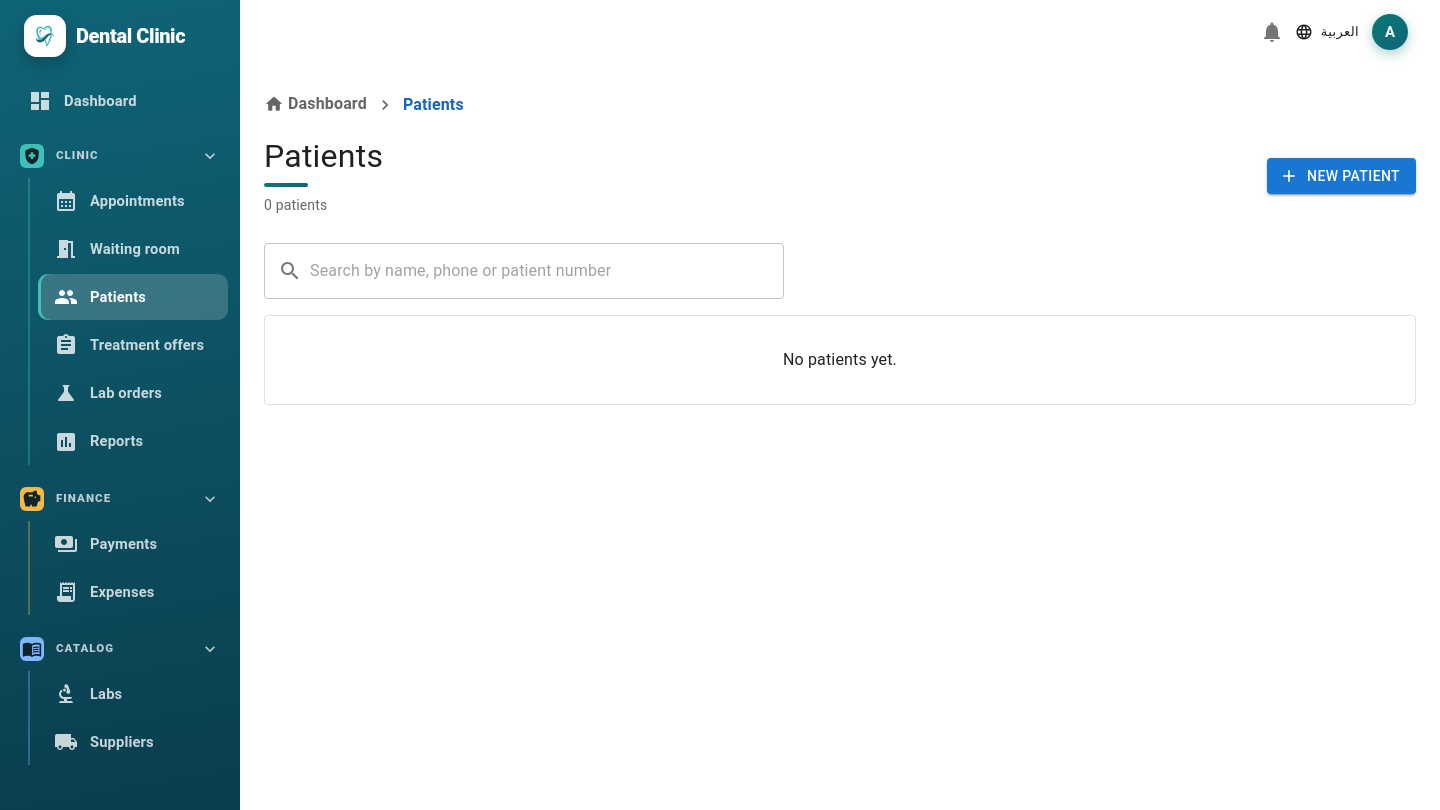
Test case: patients list › searches after a short pause, sending the text to the server
Type "hicham" into the field named "Search patients".
click(547, 270); type("hicham")  # box [310,242,784,298]
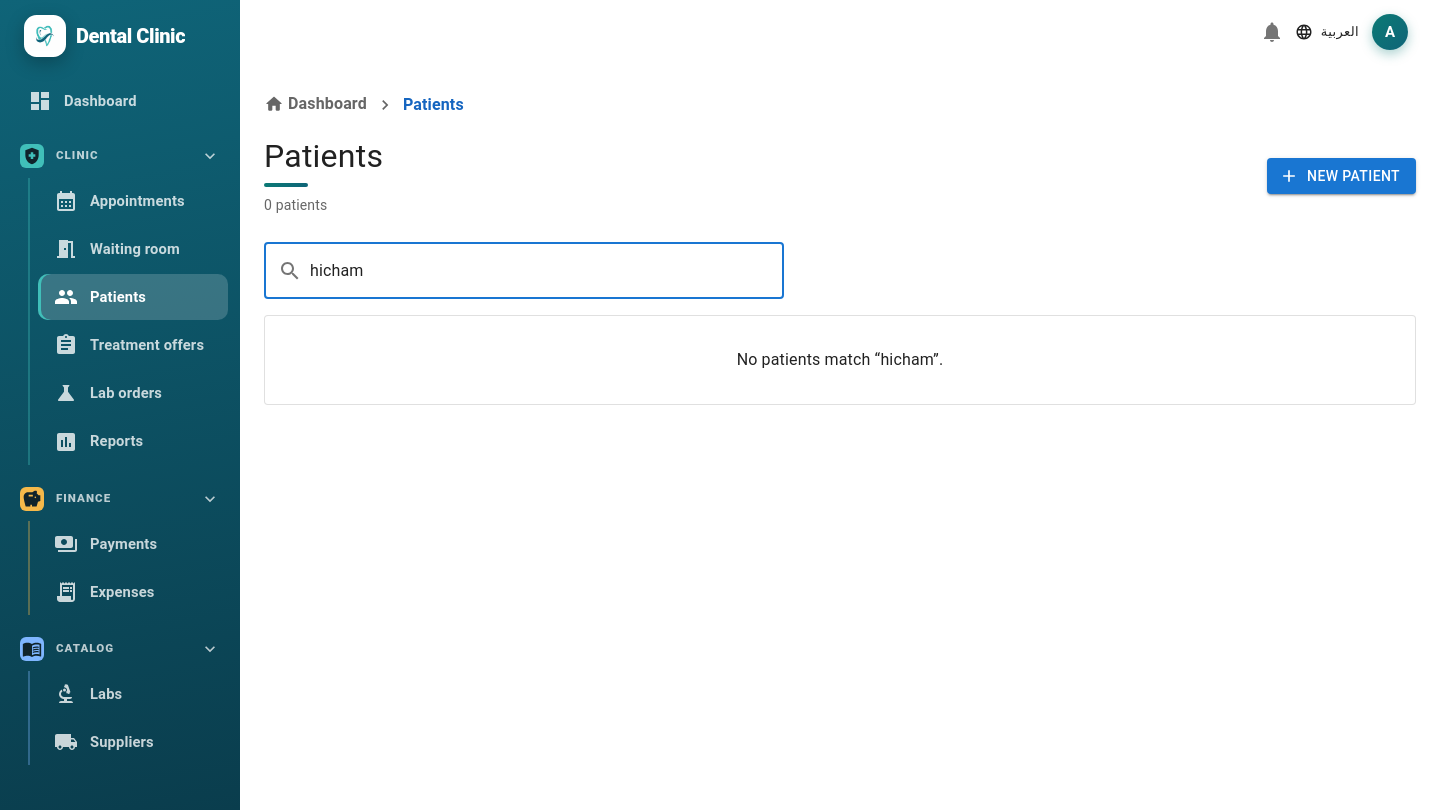
Expected: the text "No patients match “hicham”." is shown, [737,350,943,368]
